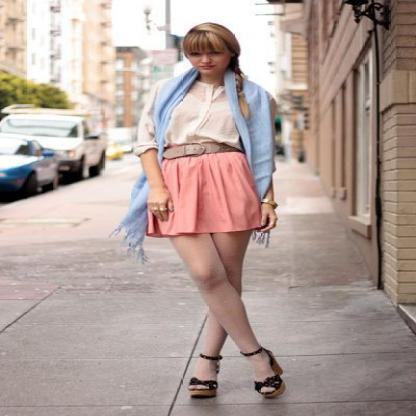shirt: (124, 82, 249, 158)
shoe: (189, 341, 284, 399)
skirt: (146, 152, 276, 240)
